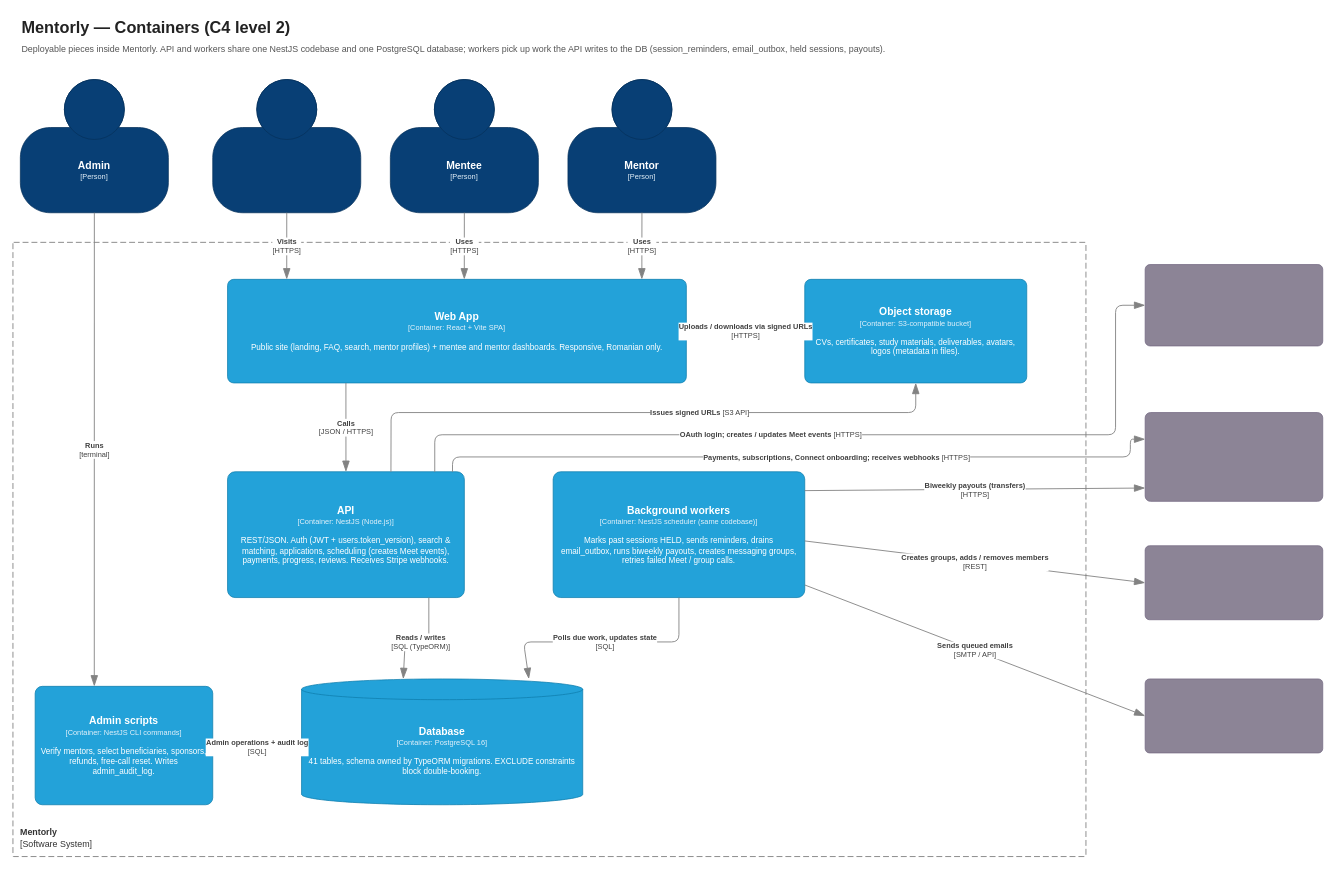
Image size: 1336x870. Some labels were removed from this diagram. Each missing label, with the centre of its shape:
Email provider [External – TBD]: pixel 1233 715
Google [External System] OAuth + Calendar / Meet API: pixel 1233 305
Guest [Person]: pixel 286 146
Messaging provider [External – TBD]: pixel 1233 582
Stripe [External System] Connect + Billing: pixel 1233 456
